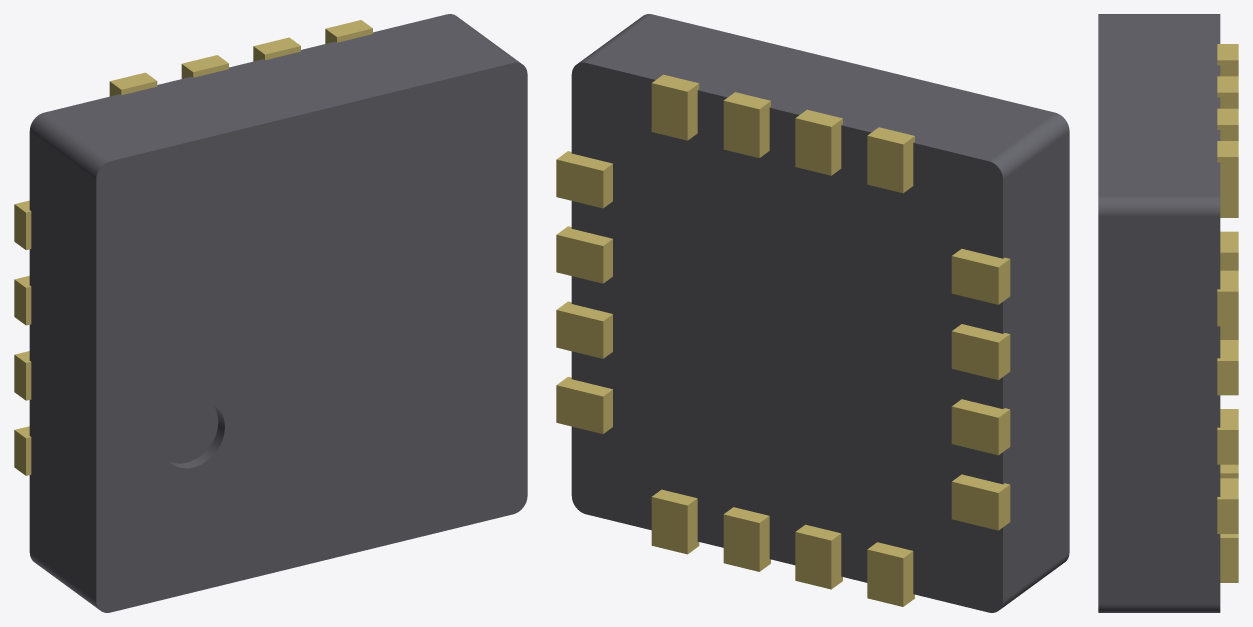
File: qmc5883l.glb
3 renders of one model, left to right at view 1: azimuth 30°, elevation 25°; view 2: azimuth 150°, elevation 25°; view 3: azimuth 270°, elevation 25°, orthographic. The views are drawn at different scales.
Visible parts, largest first — view 1: extra, pins; view 2: extra, pins; view 3: extra, pins.
Boxes of the visible parts, x1,y1,x2,y2 form: extra: (29,14,527,612); pins: (14,20,372,475); extra: (571,14,1069,612); pins: (556,74,1010,606); extra: (1098,14,1220,612); pins: (1217,44,1238,582).
Size of the model in its own units: 3.08 by 3.08 by 0.92.
